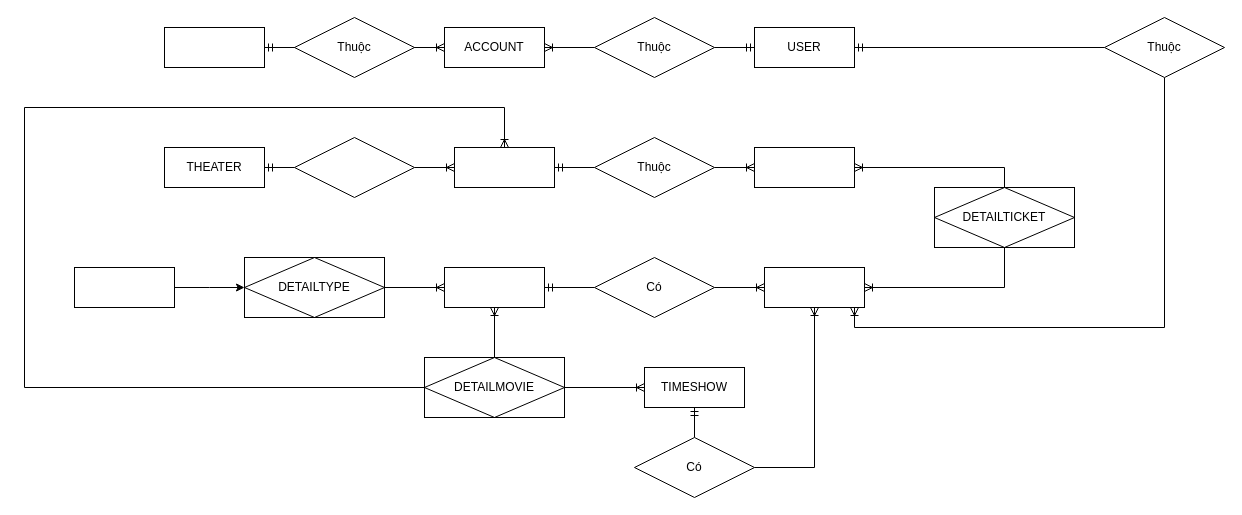
The diagram is 1242 pixels wide and 515 high, and some of its shapes have lost their labels. Each missing label, with the box of its shape:
CHAIR: (754, 146, 854, 188)
Chứa: (294, 136, 414, 198)
MOVIE: (444, 266, 544, 308)
ROLE: (164, 26, 264, 68)
ROOM: (454, 146, 554, 188)
TICKET: (764, 266, 864, 308)
TYPEMOVIE: (74, 266, 174, 308)
